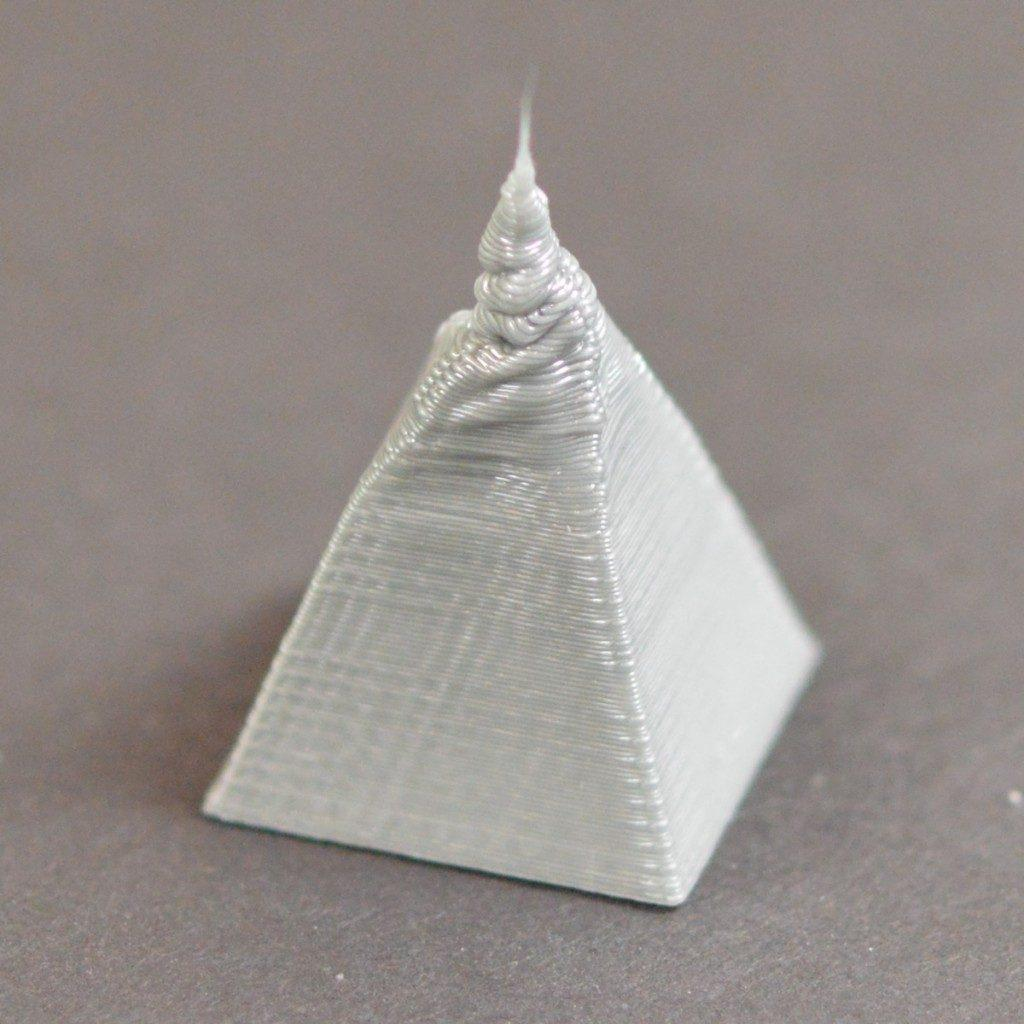Spaghetti: (201, 621, 840, 904), (267, 350, 830, 624), (403, 63, 654, 337), (493, 22, 500, 337)
